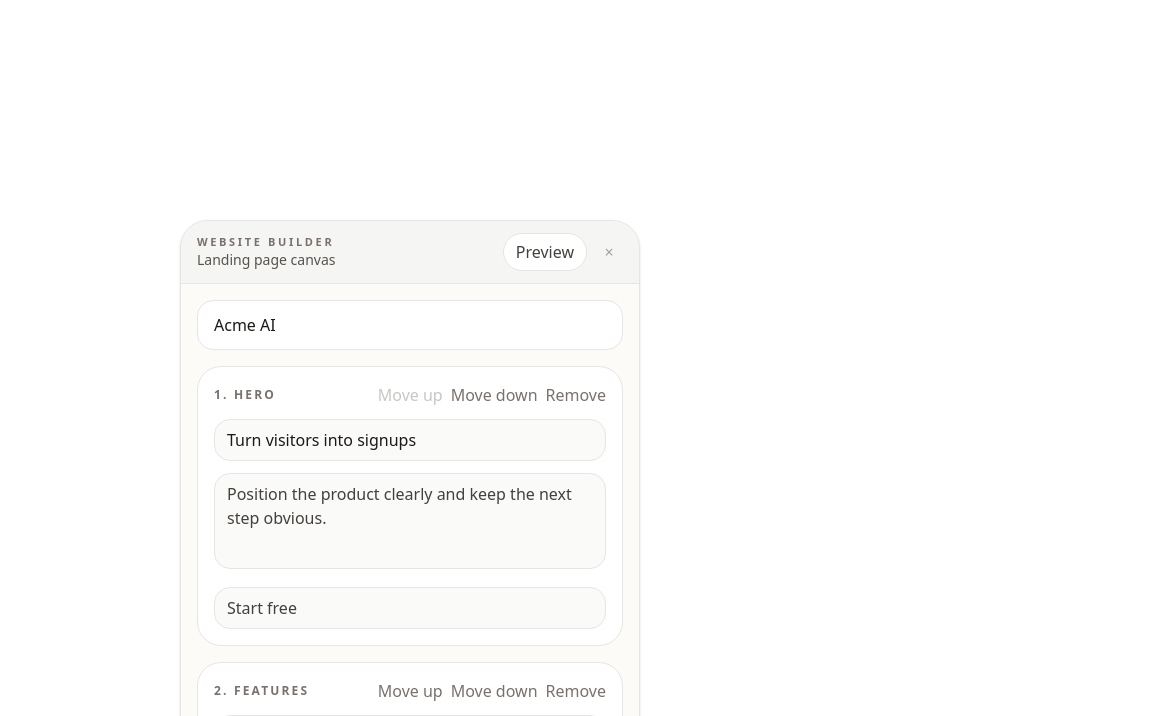
Test: WebsiteBuilder › toggles to preview mode and renders hero, features, cta, and text sections
Click the button "Preview": (545, 252) [503,233,587,271]
(page scrolled)
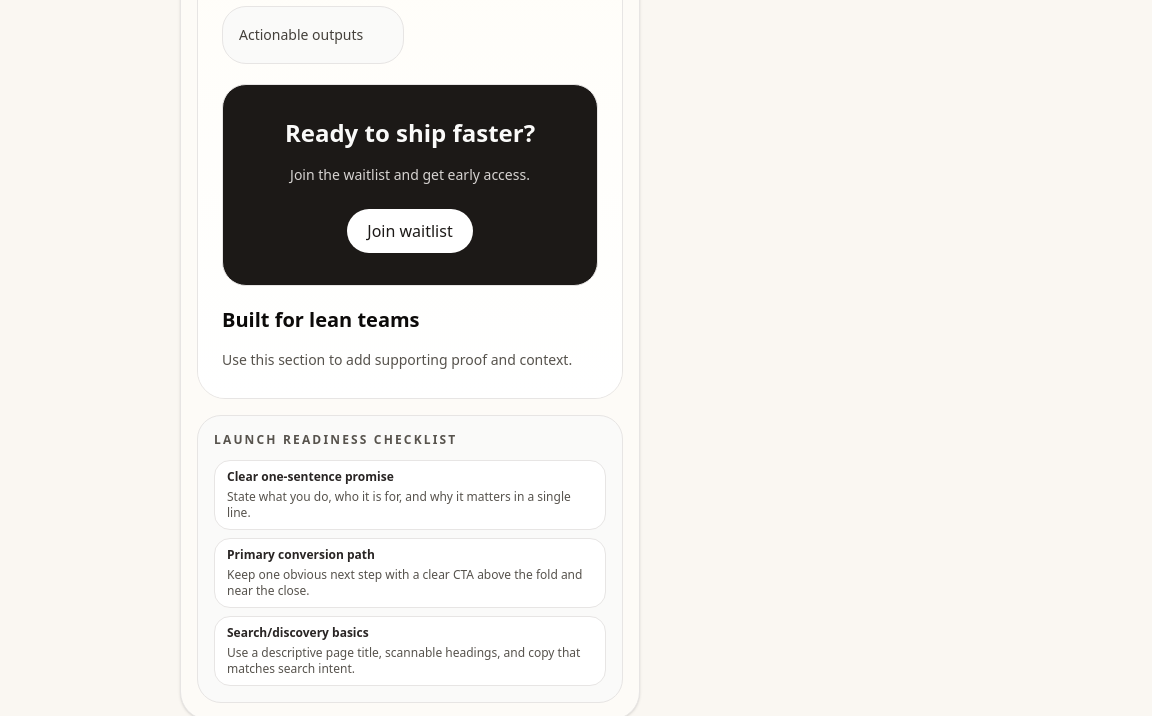
Expected: the text "Actionable outputs" is shown, [222,6,404,64]
Expected: the heading "Ready to ship faster?" is shown, [285,116,535,149]
Expected: the heading "Built for lean teams" is shown, [222,306,420,333]
